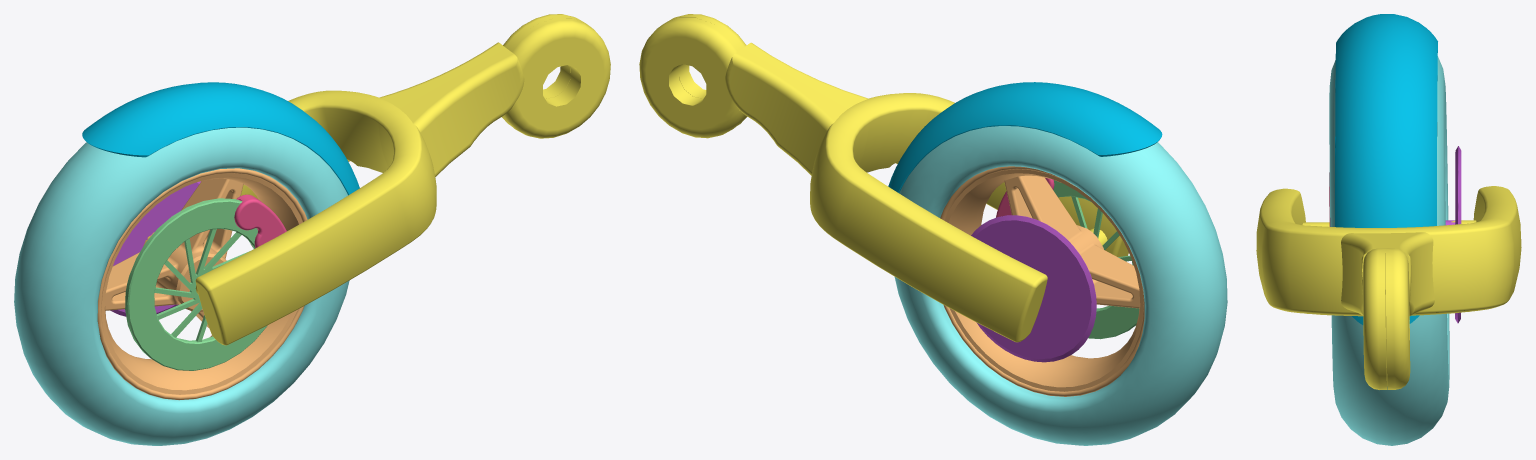
File: rear_wheel_brake.glb
3 renders of one model, left to right at view 1: azimuth 30°, elevation 25°; view 2: azimuth 150°, elevation 25°; view 3: azimuth 270°, elevation 25°, orthographic. The views are drawn at different scales.
Visible parts, largest first — view 1: User Library-racing bike_racing bike.sldasm-Part-20-1, User Library-racing bike_racing bike.sldasm-Part-42-1, User Library-racing bike_racing bike.sldasm-Part-31-1, User Library-racing bike_racing bike.sldasm-Part-27-1, User Library-racing bike_racing bike.sldasm-Part-2-1, User Library-racing bike_racing bike.sldasm-Part-41-1, User Library-racing bike_racing bike.sldasm-Part-1-1; view 2: User Library-racing bike_racing bike.sldasm-Part-20-1, User Library-racing bike_racing bike.sldasm-Part-42-1, User Library-racing bike_racing bike.sldasm-Part-31-1, User Library-racing bike_racing bike.sldasm-Part-27-1, User Library-racing bike_racing bike.sldasm-Part-41-1, User Library-racing bike_racing bike.sldasm-Part-2-1; view 3: User Library-racing bike_racing bike.sldasm-Part-20-1, User Library-racing bike_racing bike.sldasm-Part-27-1, User Library-racing bike_racing bike.sldasm-Part-42-1, User Library-racing bike_racing bike.sldasm-Part-41-1.
Boxes of the visible parts, box(x1,y1,x2,y2) form: User Library-racing bike_racing bike.sldasm-Part-20-1: box(145, 14, 610, 345); User Library-racing bike_racing bike.sldasm-Part-42-1: box(14, 127, 349, 445); User Library-racing bike_racing bike.sldasm-Part-31-1: box(97, 168, 307, 400); User Library-racing bike_racing bike.sldasm-Part-27-1: box(82, 82, 359, 195); User Library-racing bike_racing bike.sldasm-Part-2-1: box(125, 198, 267, 370); User Library-racing bike_racing bike.sldasm-Part-41-1: box(110, 181, 200, 316); User Library-racing bike_racing bike.sldasm-Part-1-1: box(234, 194, 286, 247); User Library-racing bike_racing bike.sldasm-Part-20-1: box(639, 14, 1128, 342); User Library-racing bike_racing bike.sldasm-Part-42-1: box(894, 126, 1227, 445); User Library-racing bike_racing bike.sldasm-Part-31-1: box(940, 166, 1144, 396); User Library-racing bike_racing bike.sldasm-Part-27-1: box(888, 82, 1162, 192); User Library-racing bike_racing bike.sldasm-Part-41-1: box(971, 215, 1096, 362); User Library-racing bike_racing bike.sldasm-Part-2-1: box(1053, 180, 1139, 339); User Library-racing bike_racing bike.sldasm-Part-20-1: box(1256, 186, 1521, 389); User Library-racing bike_racing bike.sldasm-Part-27-1: box(1335, 14, 1437, 324); User Library-racing bike_racing bike.sldasm-Part-42-1: box(1329, 56, 1449, 445); User Library-racing bike_racing bike.sldasm-Part-41-1: box(1445, 146, 1461, 323).
Bounding box in the file's own units: 0.0747 × 0.0427 × 0.0264.
